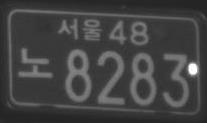2: (96, 49, 126, 106)
3: (160, 51, 190, 110)
4: (107, 19, 128, 46)
8: (62, 46, 93, 103), (128, 50, 157, 107), (128, 19, 150, 46)
노: (16, 46, 55, 80)
서울_O: (57, 17, 104, 42)
